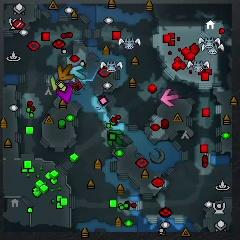p3: (56, 83, 73, 103)
x1: (160, 89, 179, 107)
x2: (50, 76, 59, 90)
x3: (69, 66, 86, 82)
x4: (107, 130, 123, 145)
x5: (58, 63, 74, 80)
